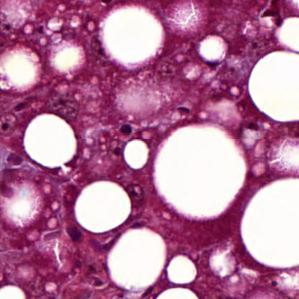steatosis: (73, 181, 132, 234), (169, 252, 201, 286), (122, 134, 150, 170)
